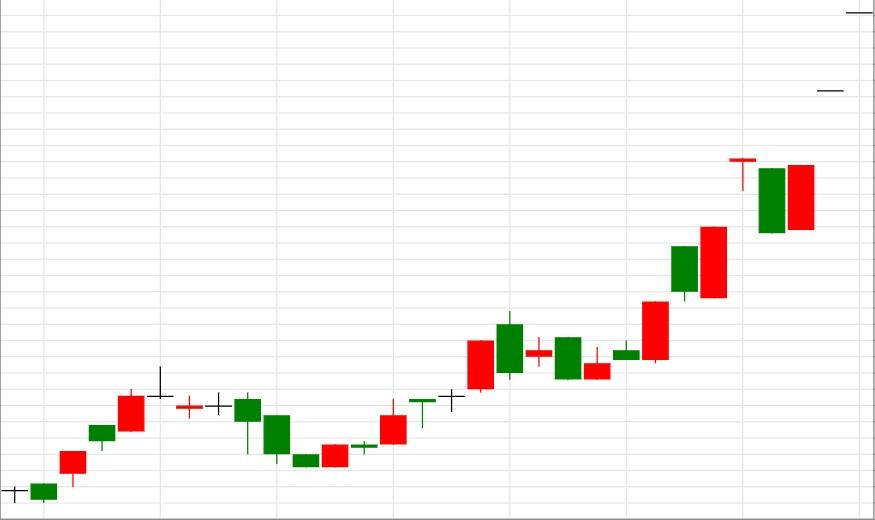bullish_engulfing_rise: (147, 365, 349, 468)
